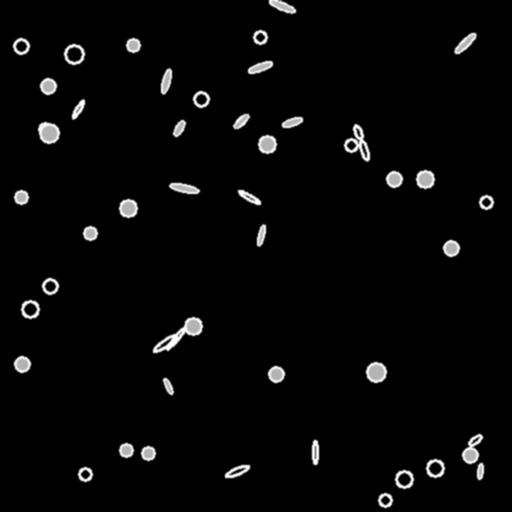pseudomonas: (165, 325, 187, 351), (152, 333, 178, 353), (454, 32, 476, 54), (268, 0, 296, 14), (237, 189, 261, 205), (169, 182, 199, 194), (225, 464, 249, 478), (248, 60, 272, 74), (70, 99, 86, 119), (281, 115, 303, 129), (232, 113, 250, 129), (160, 69, 172, 93), (358, 139, 370, 161), (172, 119, 186, 137), (467, 433, 483, 447), (162, 377, 174, 395), (256, 225, 266, 245), (352, 124, 364, 140), (312, 441, 317, 463), (477, 463, 483, 479)
synechocystis: (367, 363, 385, 381), (65, 45, 83, 63), (40, 124, 58, 142), (259, 136, 275, 152), (417, 171, 433, 187), (120, 200, 136, 216), (22, 301, 38, 317), (396, 471, 412, 487), (185, 318, 201, 334), (427, 460, 443, 476), (41, 79, 55, 93), (15, 357, 29, 371), (14, 39, 28, 53), (269, 367, 283, 381), (194, 92, 208, 106), (463, 448, 477, 462), (387, 172, 401, 186), (43, 279, 57, 293), (444, 241, 458, 255), (84, 227, 96, 239), (379, 494, 391, 506), (345, 139, 357, 151), (39, 123, 51, 135), (15, 191, 27, 203), (254, 31, 266, 43), (480, 196, 492, 208), (79, 468, 91, 480), (120, 444, 132, 456), (142, 447, 154, 459), (127, 39, 139, 51)
